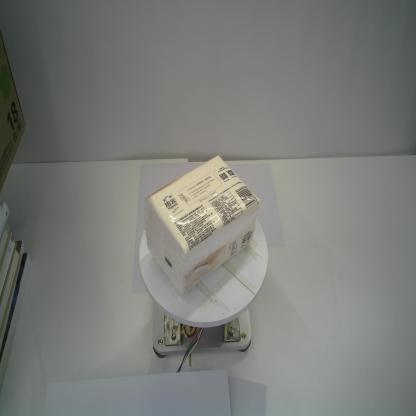Tissue: (143, 154, 261, 298)
